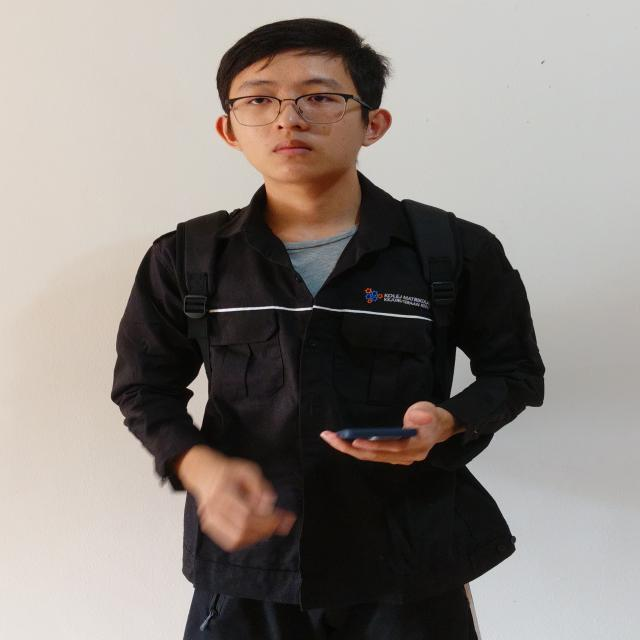person_with_labcoat: (112, 19, 544, 640)
